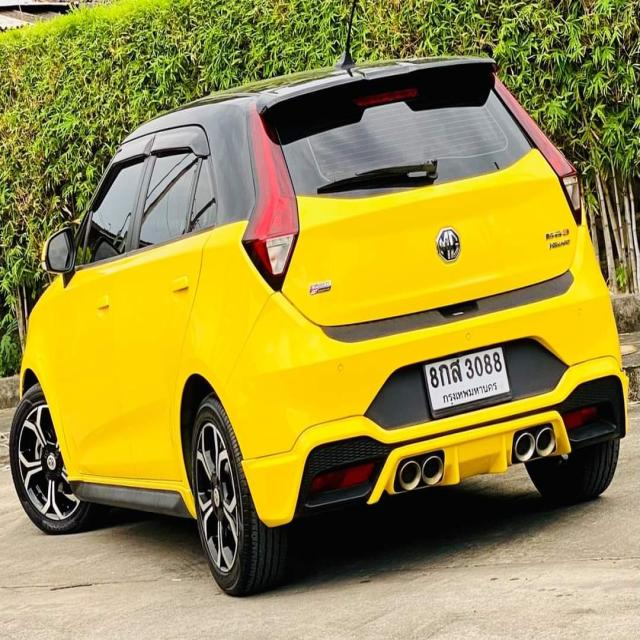license_plate: (422, 343, 514, 417)
